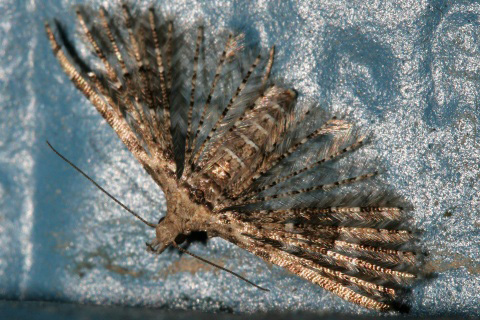Alucitidae: (35, 2, 424, 313)
moth: (37, 4, 426, 315)
